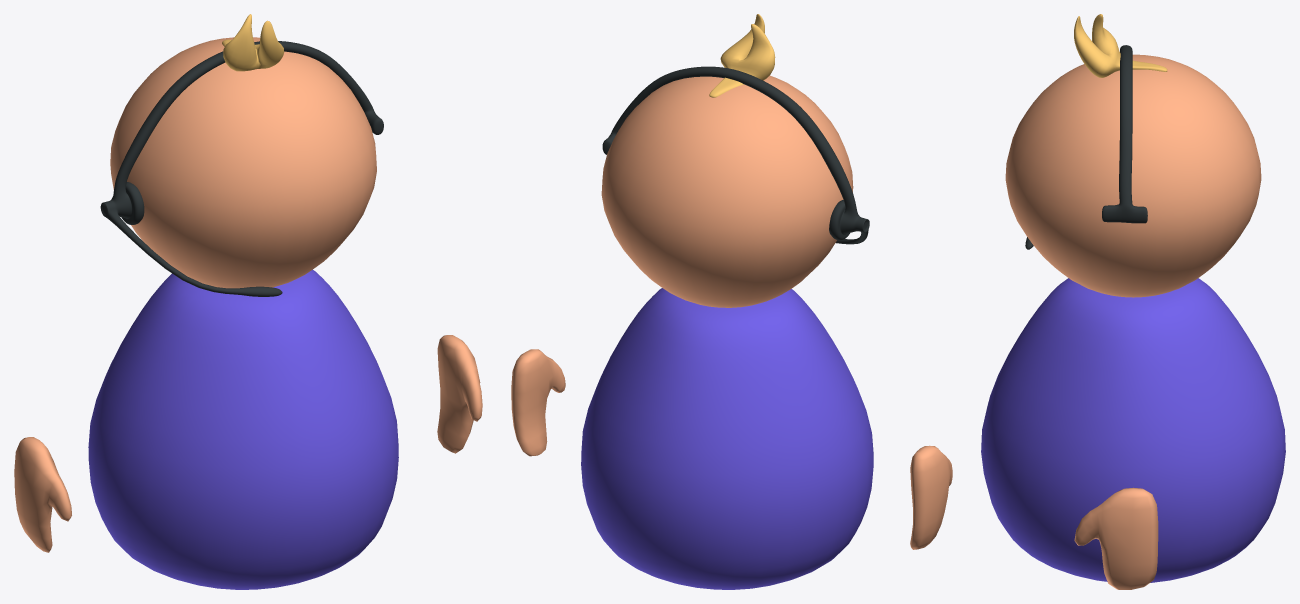
The model's file is Character_Purple.fbx.
3 renders of one model, left to right at view 1: azimuth 30°, elevation 25°; view 2: azimuth 150°, elevation 25°; view 3: azimuth 270°, elevation 25°, orthographic. The views are drawn at different scales.
Visible parts, largest first — view 1: Body, Head, Hands, Headphones, Cube; view 2: Body, Head, Hands, Headphones, Cube; view 3: Body, Head, Hands, Headphones, Cube.
Part boxes in pixels (bbox=[...]): Body: bbox=[88, 269, 398, 589]; Head: bbox=[110, 37, 376, 288]; Hands: bbox=[14, 335, 482, 552]; Headphones: bbox=[100, 41, 383, 296]; Cube: bbox=[222, 14, 284, 71]; Body: bbox=[581, 288, 873, 589]; Head: bbox=[601, 75, 853, 307]; Hands: bbox=[511, 349, 952, 549]; Headphones: bbox=[602, 66, 869, 244]; Cube: bbox=[709, 14, 775, 97]; Body: bbox=[981, 278, 1285, 582]; Head: bbox=[1005, 54, 1261, 297]; Hands: bbox=[1074, 487, 1158, 589]; Headphones: bbox=[1025, 45, 1147, 249]; Cube: bbox=[1074, 14, 1167, 77].
Bounding box in the file's own units: 291 × 355 × 180.
